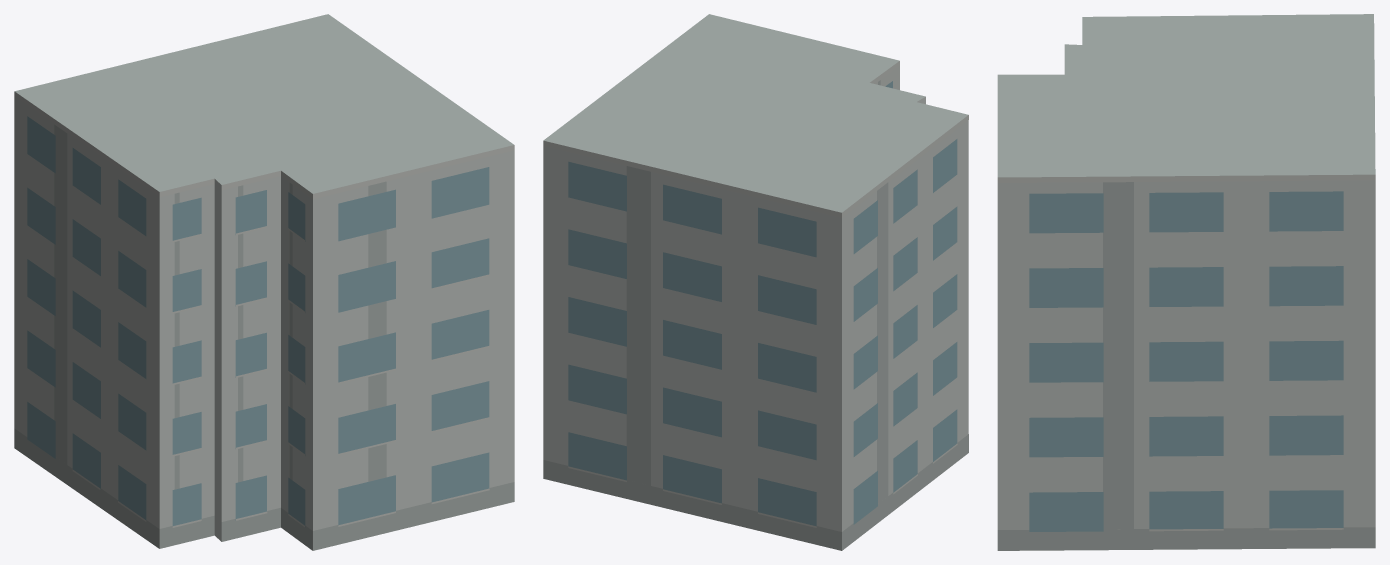
Rendered from survey-upis-33038816.glb.
The picture shows the model from 3 angles, left to right: view 1: azimuth 30°, elevation 25°; view 2: azimuth 150°, elevation 25°; view 3: azimuth 270°, elevation 25°; orthographic projection. The views are drawn at different scales.
Parts seen in each view (by area): view 1: survey-upis-33038816.tmp; view 2: survey-upis-33038816.tmp; view 3: survey-upis-33038816.tmp.
Part boxes in pixels (bbox=[...]): survey-upis-33038816.tmp: bbox=[14, 14, 514, 550]; survey-upis-33038816.tmp: bbox=[543, 14, 968, 550]; survey-upis-33038816.tmp: bbox=[997, 14, 1375, 550].
Size of the model in its own units: 15.12 by 16.1 by 14.79.
